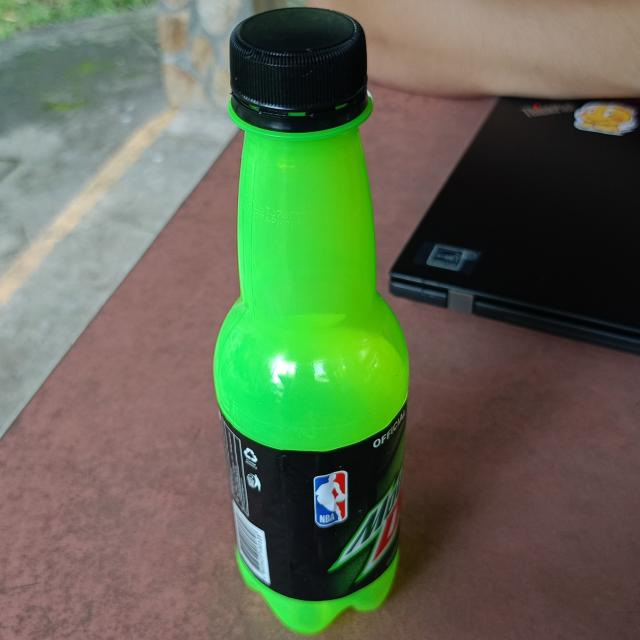Anorganik: (202, 0, 421, 640)
